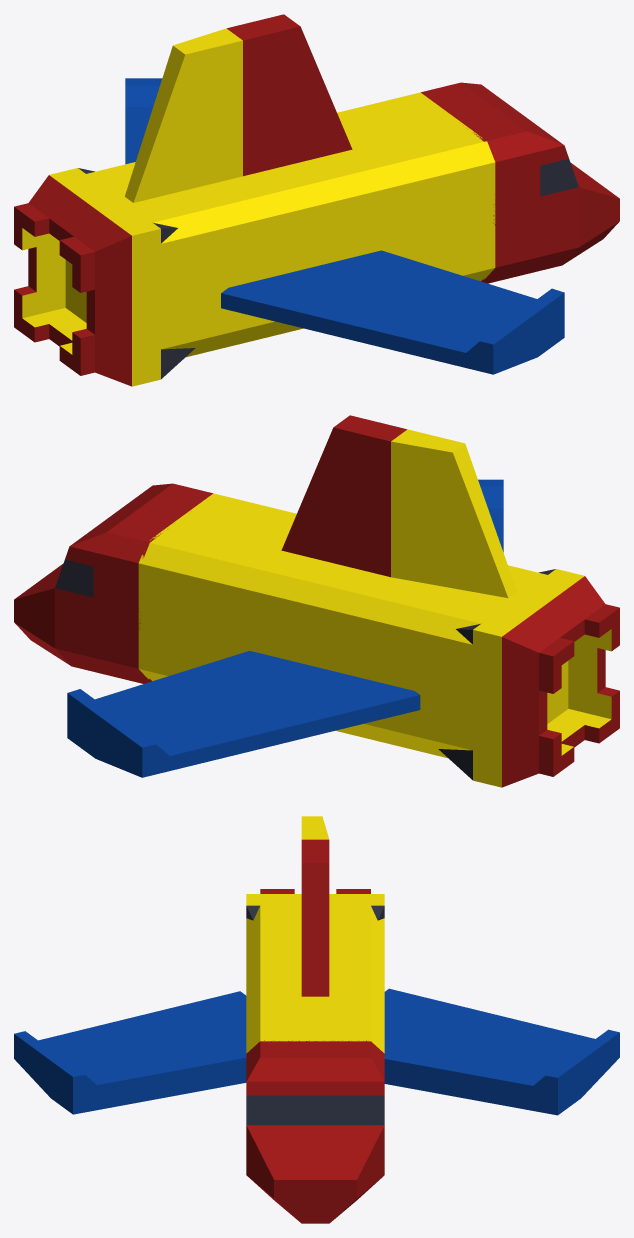
Rendered from Enemy1.fbx.
The picture shows the model from 3 angles, top to bottom: view 1: azimuth 30°, elevation 25°; view 2: azimuth 150°, elevation 25°; view 3: azimuth 270°, elevation 25°; orthographic projection. The views are drawn at different scales.
Visible parts, largest first — view 1: hull_body, wing_slantWinglet (×2), wing_point, engine_turbineSquare, hull_cockpitNose; view 2: hull_body, wing_point, wing_slantWinglet (×2), engine_turbineSquare, hull_cockpitNose; view 3: wing_slantWinglet (×2), hull_cockpitNose, hull_body, wing_point, engine_turbineSquare.
Boxes of the visible parts, box(x1,y1,x2,y2) form: hull_body: box(86, 92, 495, 357); wing_slantWinglet (×2): box(125, 78, 564, 374); wing_point: box(125, 14, 352, 202); engine_turbineSquare: box(14, 168, 195, 386); hull_cockpitNose: box(421, 82, 619, 283); hull_body: box(138, 493, 547, 758); wing_point: box(281, 415, 516, 598); wing_slantWinglet (×2): box(67, 479, 503, 777); engine_turbineSquare: box(438, 569, 619, 787); hull_cockpitNose: box(14, 483, 212, 683); wing_slantWinglet (×2): box(14, 988, 619, 1115); hull_cockpitNose: box(246, 1040, 384, 1223); hull_body: box(246, 905, 384, 1053); wing_point: box(301, 816, 329, 996); engine_turbineSquare: box(246, 889, 384, 920).
Bounding box in the file's own units: 38 × 19 × 43.84.
